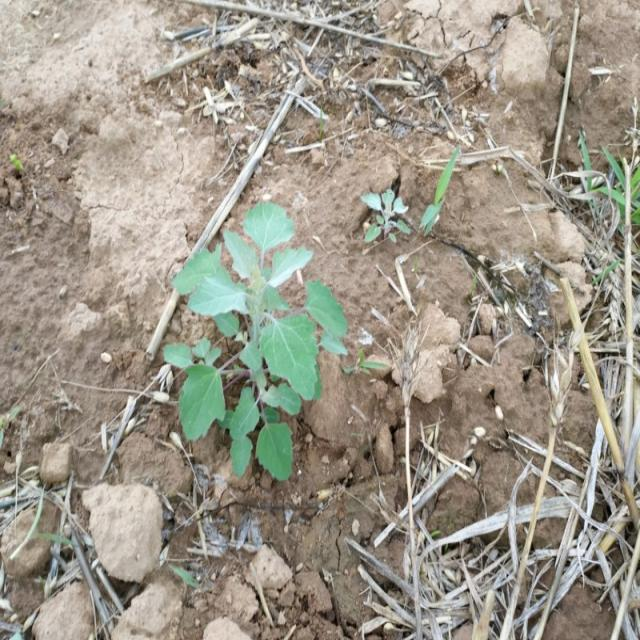goosefoots: (163, 187, 352, 481)
